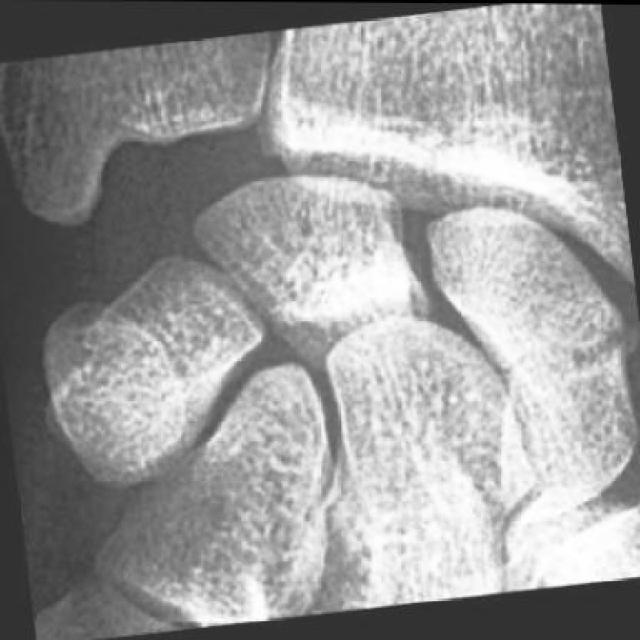Fracture: (492, 299, 640, 434)
